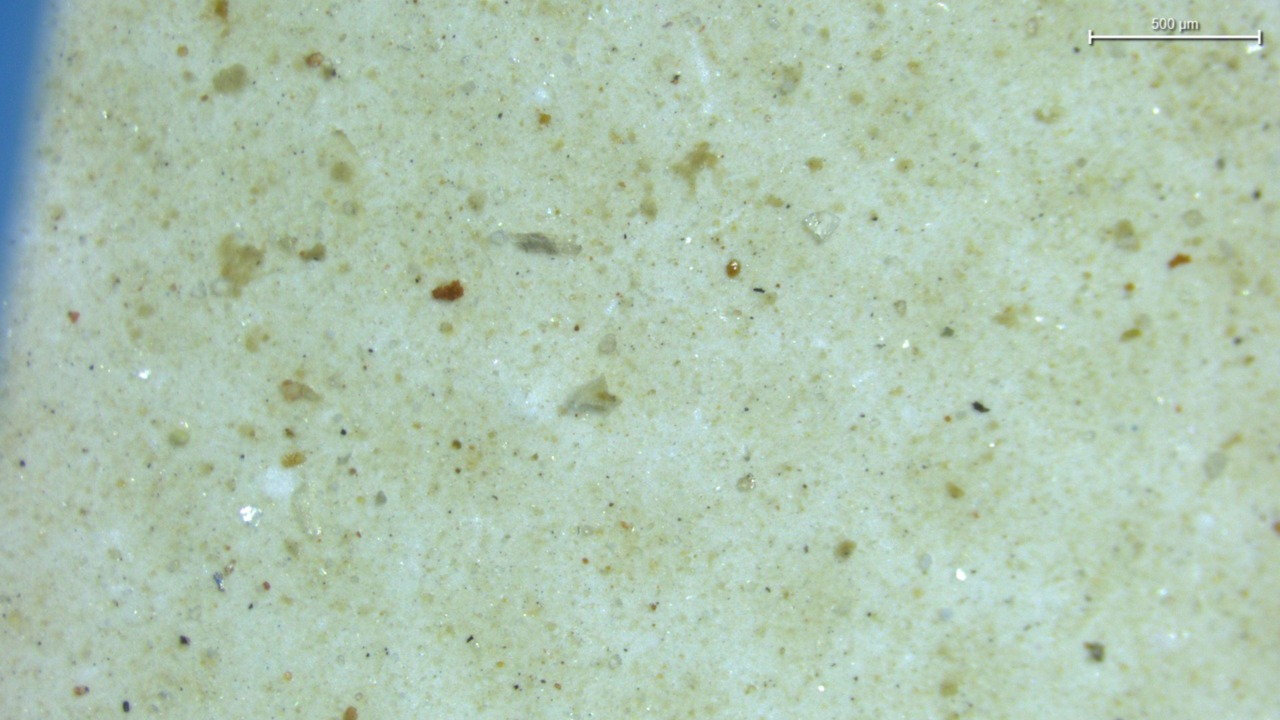microplastic_fragment: (804, 212, 839, 242)
